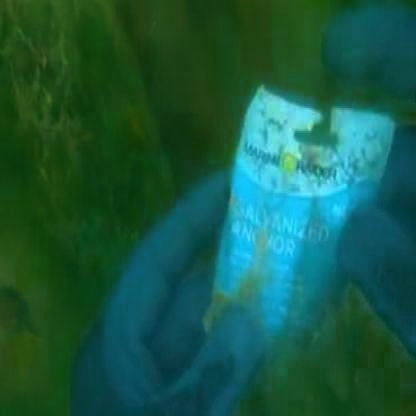plastic: (242, 80, 384, 332)
